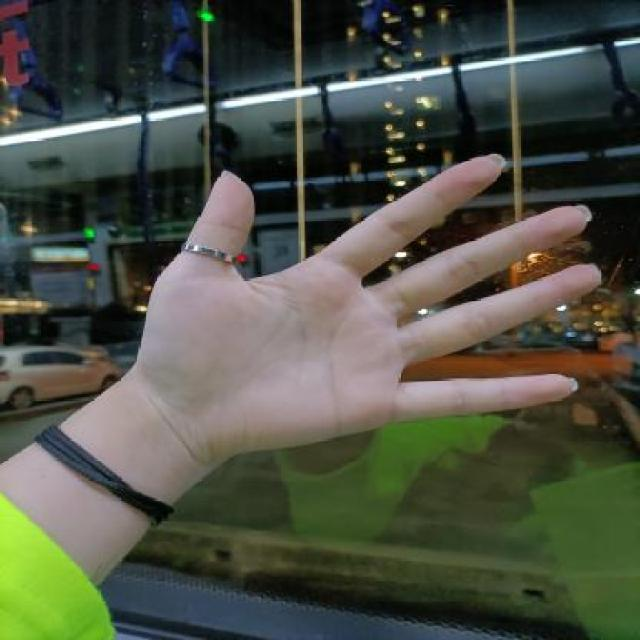bare_hand: (107, 124, 615, 464)
